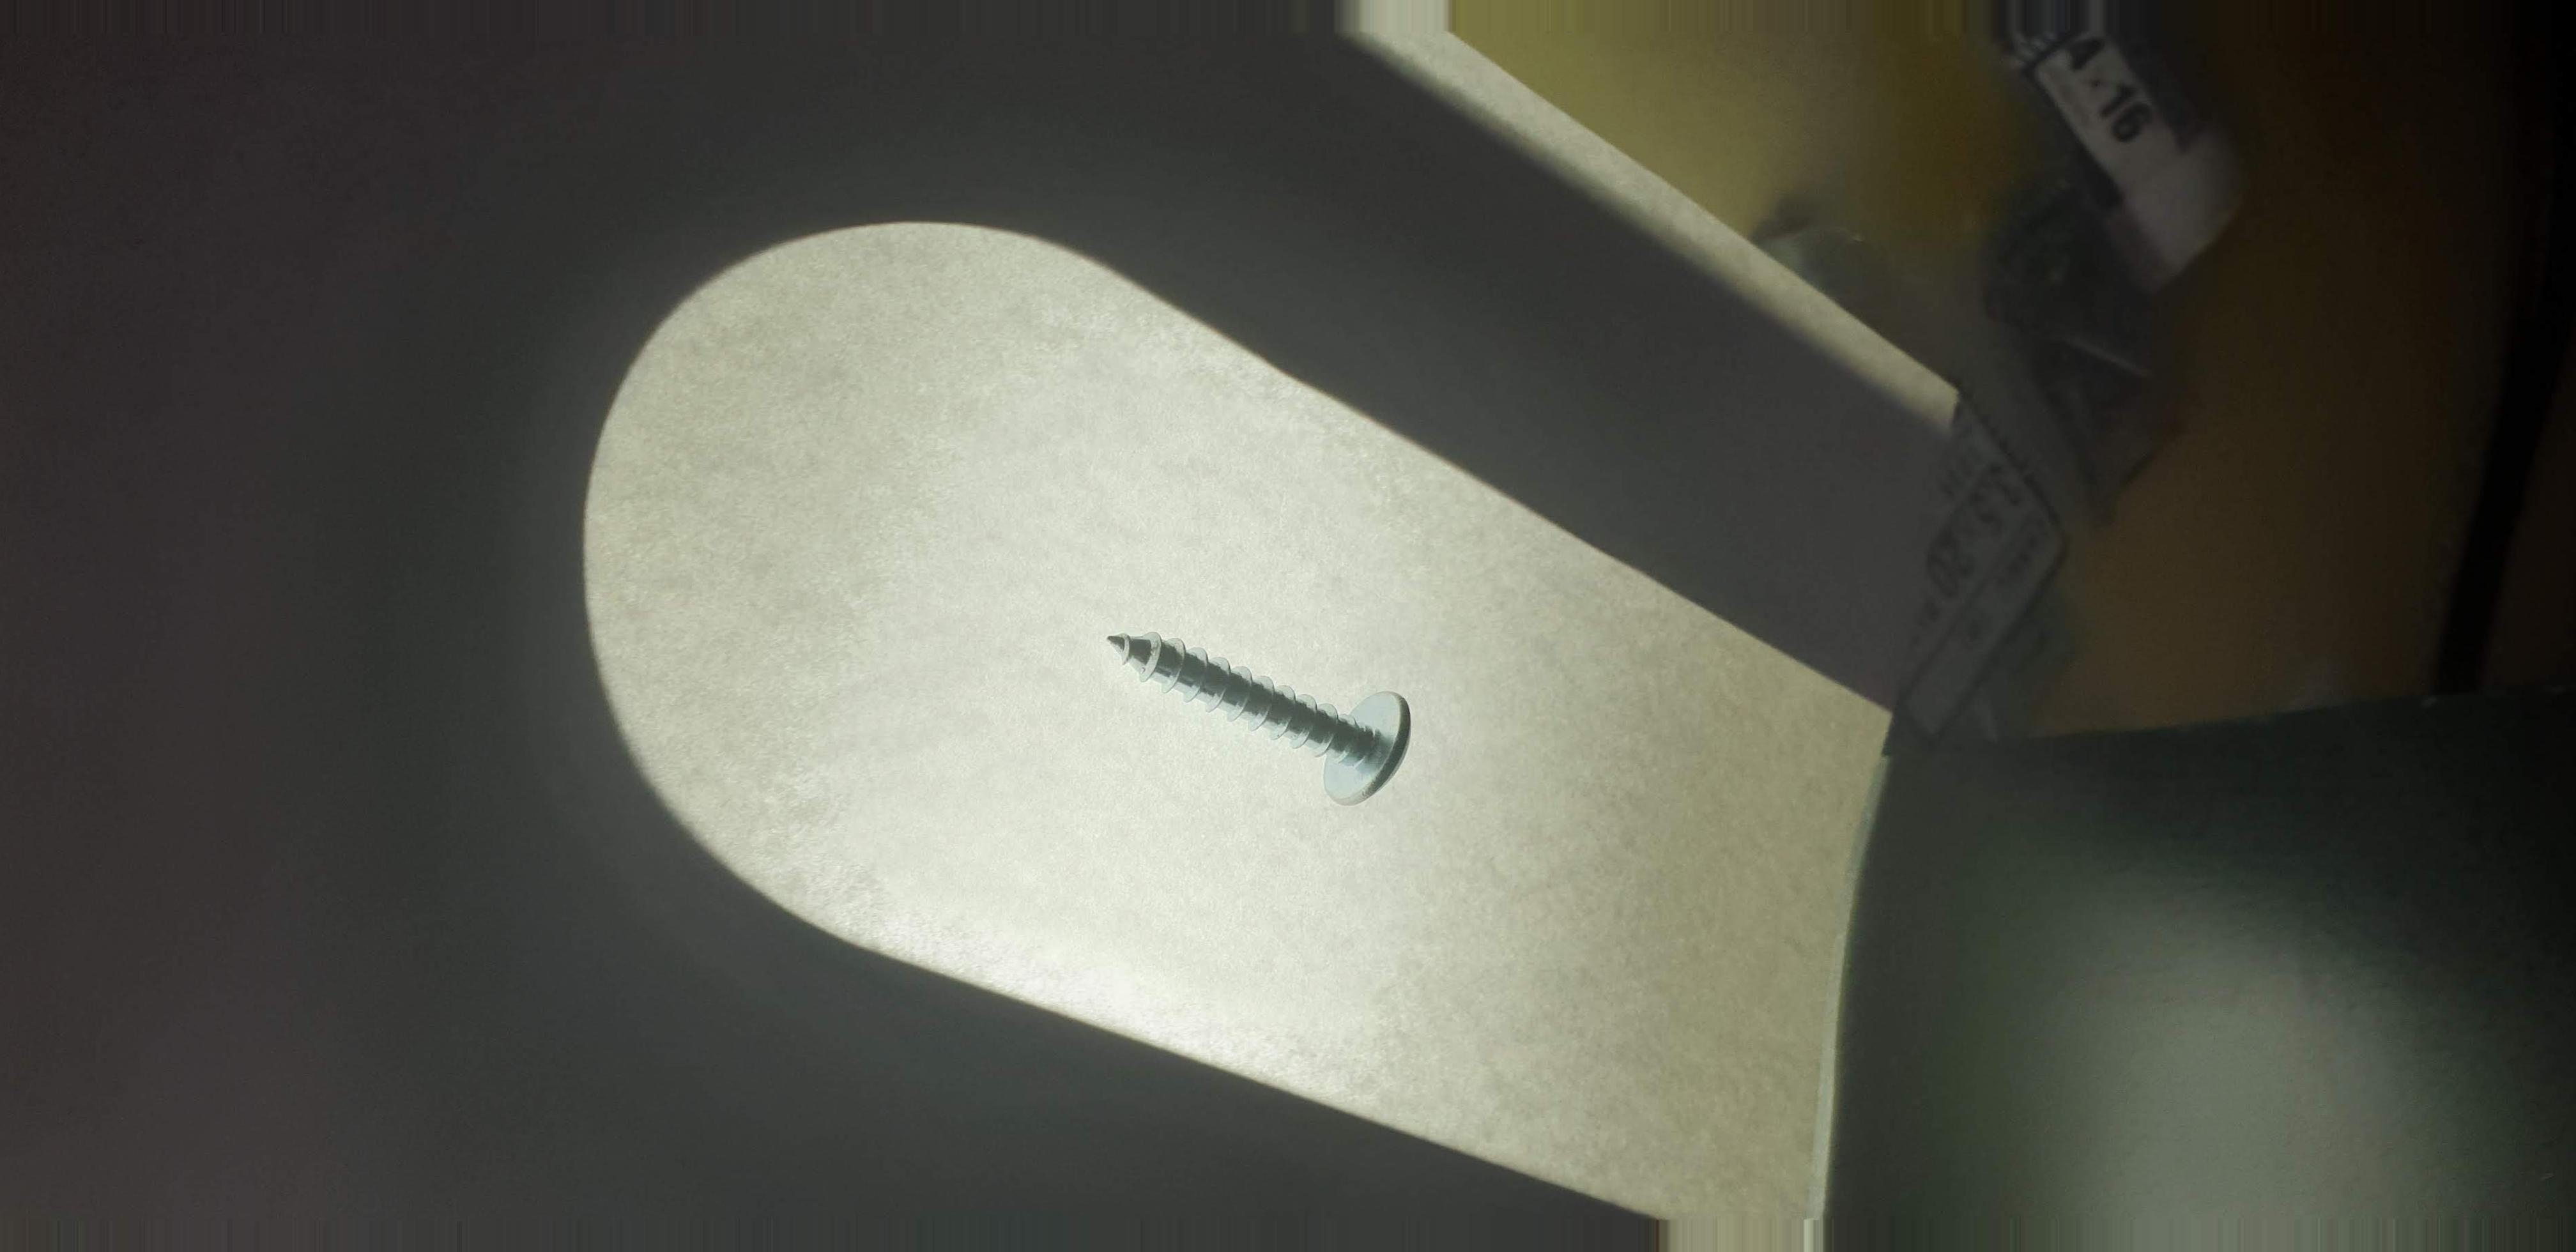S002: (1051, 577, 1459, 845)
